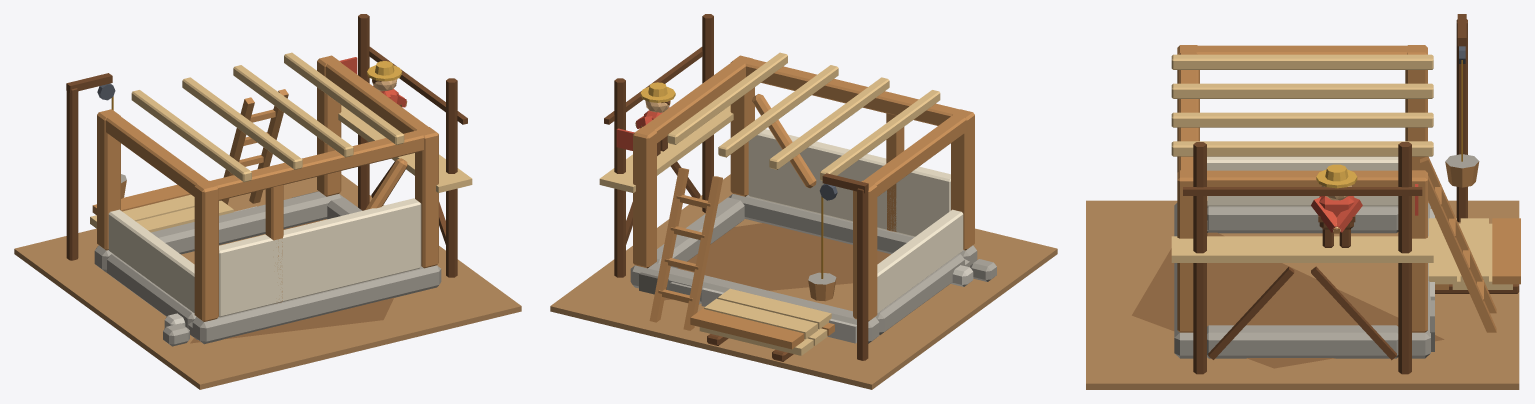
The model's file is construction_site.fbx.
The picture shows the model from 3 angles, left to right: view 1: azimuth 30°, elevation 25°; view 2: azimuth 150°, elevation 25°; view 3: azimuth 270°, elevation 25°; orthographic projection. The views are drawn at different scales.
Parts seen in each view (by area): view 1: construction_site; view 2: construction_site; view 3: construction_site, Hammer.
Part boxes in pixels (x1,y1,x2,y2): construction_site: (14, 14, 521, 389); construction_site: (550, 14, 1057, 389); construction_site: (1086, 14, 1520, 389); Hammer: (1311, 197, 1362, 233).
Size of the model in its own units: 0.912 by 0.546 by 0.9156.
